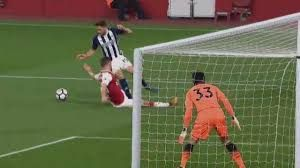fall: (80, 58, 181, 110)
